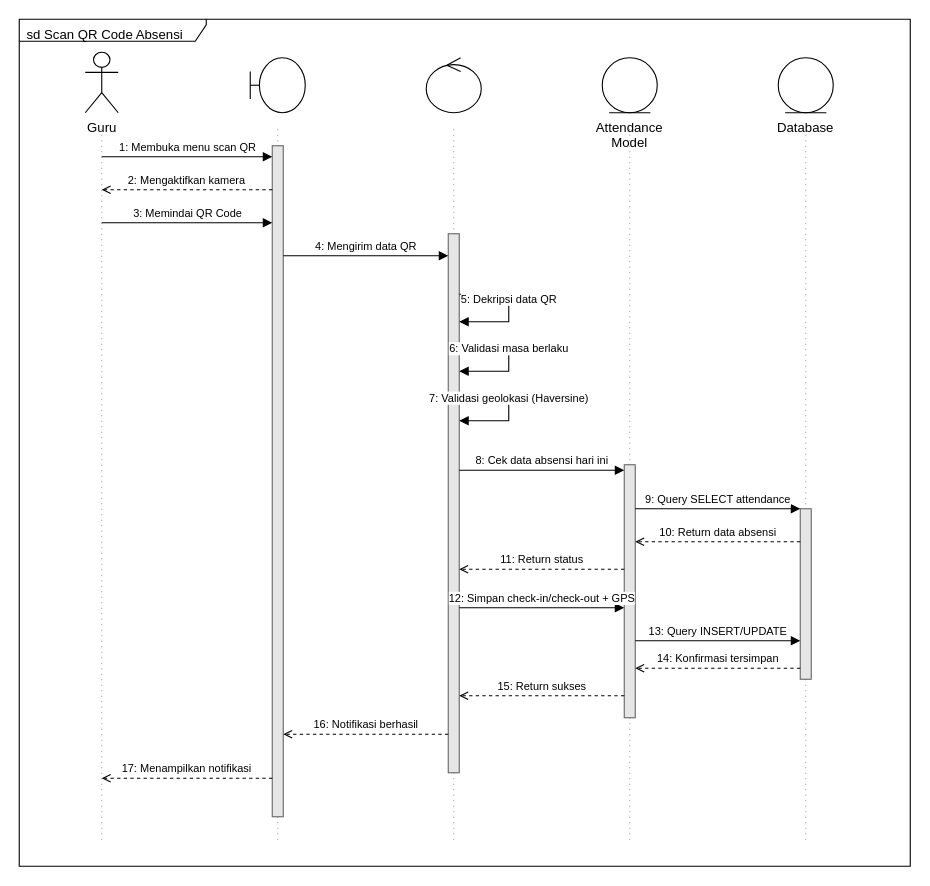
The diagram is 930 pixels wide and 886 high, and some of its shapes have lost their labels. The centre of each missing label's shape, as x and y in pixels:
AttendanceController: the point at 453,85
Halaman Scanner: the point at 277,85
